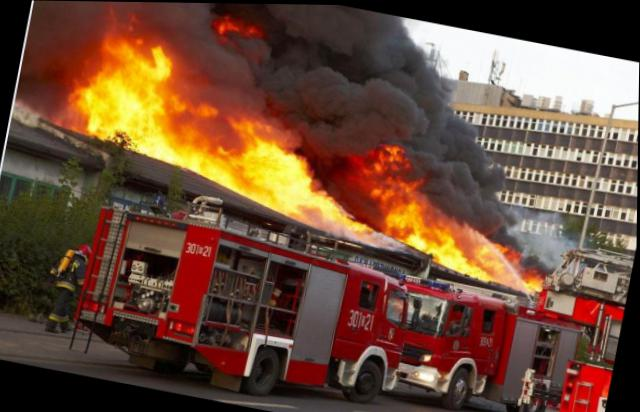fire: (69, 18, 177, 152), (154, 84, 246, 178), (228, 118, 310, 213), (345, 139, 424, 206), (383, 192, 441, 249), (299, 192, 369, 236), (432, 221, 486, 271), (480, 239, 526, 286), (212, 11, 262, 42), (521, 266, 545, 288)
smoke: (177, 31, 434, 124), (258, 3, 446, 76), (11, 3, 89, 118), (423, 134, 505, 219), (37, 0, 215, 30)
